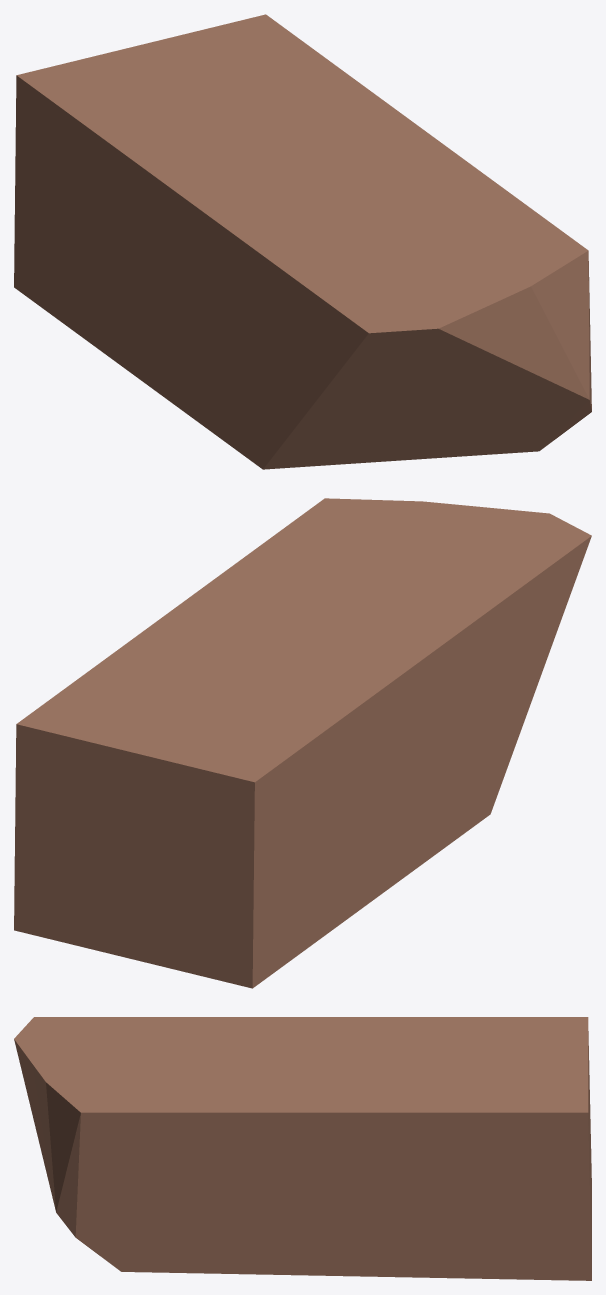
The model's file is holzteil.glb.
3 renders of one model, top to bottom at view 1: azimuth 30°, elevation 25°; view 2: azimuth 150°, elevation 25°; view 3: azimuth 270°, elevation 25°, orthographic. The views are drawn at different scales.
Parts seen in each view (by area): view 1: Cube_cell.031; view 2: Cube_cell.031; view 3: Cube_cell.031.
Part boxes in pixels (x1,y1,x2,y2): Cube_cell.031: (14,14,591,469); Cube_cell.031: (14,498,591,988); Cube_cell.031: (14,1017,591,1280).
Bounding box in the file's own units: 0.0408 × 0.0335 × 0.1042.
